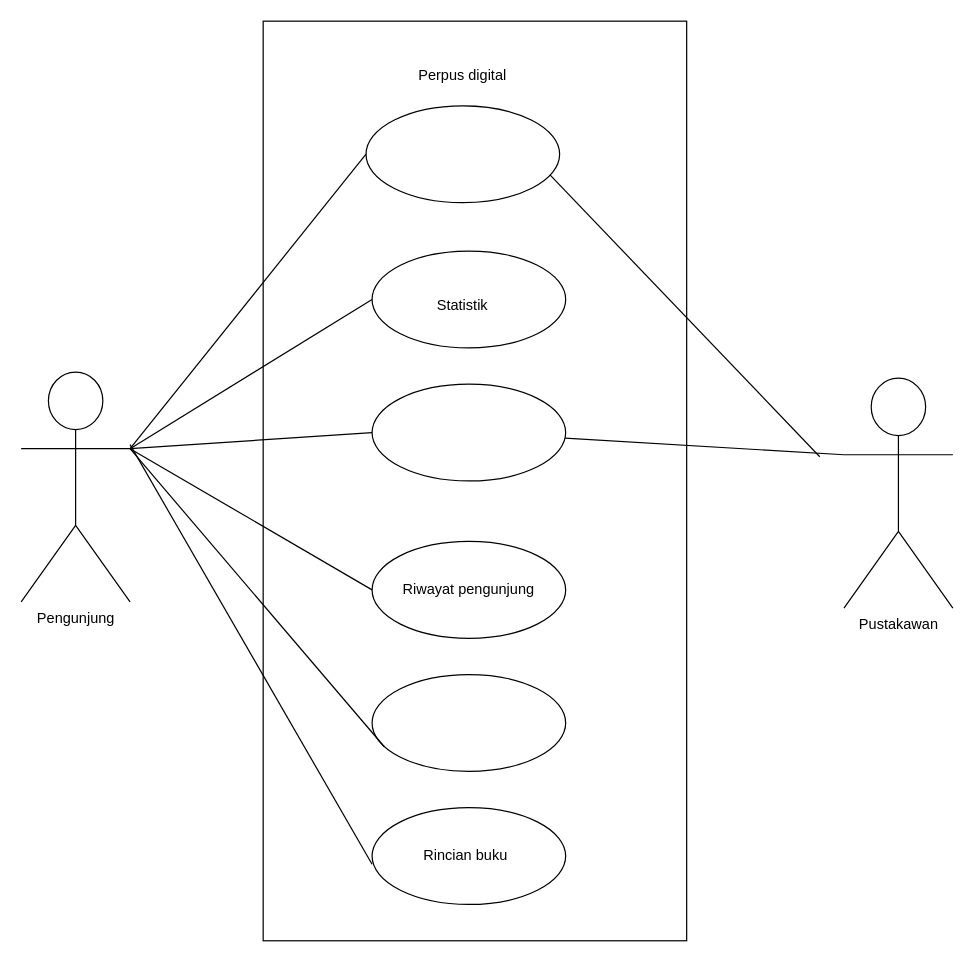
Image size: 974x962. Some labels were removed from this diagram. Each missing label, with the centre of its shape:
"Cari buku" belongs at [468,722].
"halaman perpustakaan" belongs at [462,154].
"Isi data pengunjung" belongs at [468,432].
